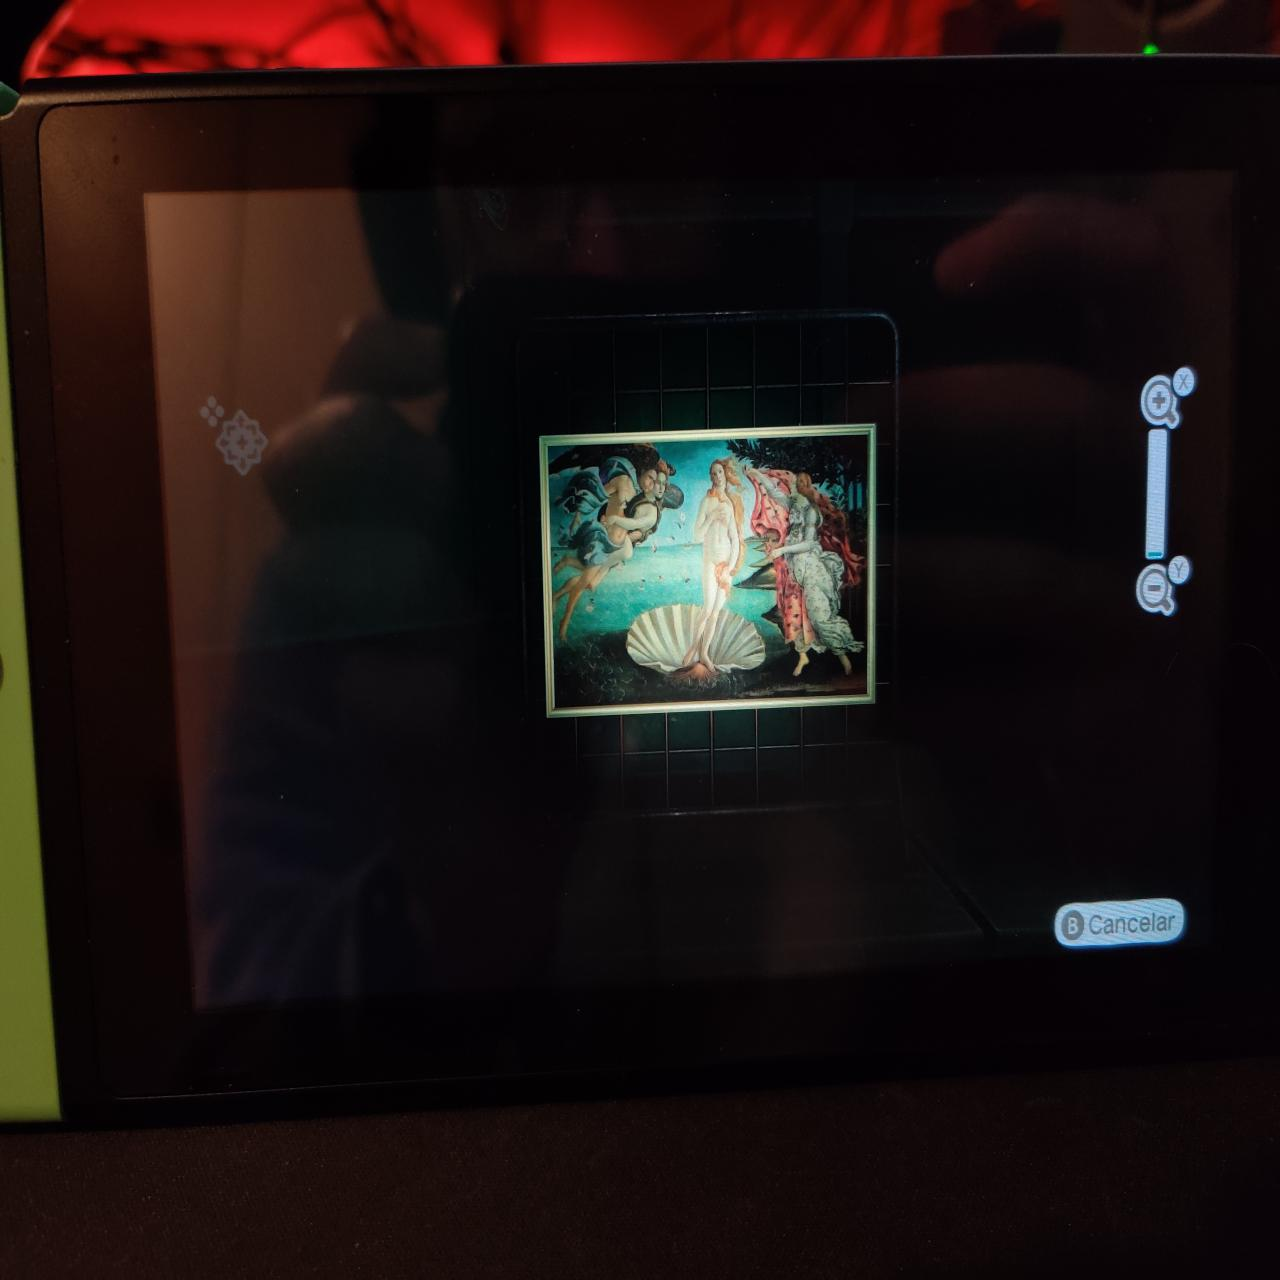BirthVenus: (547, 436, 870, 712)
